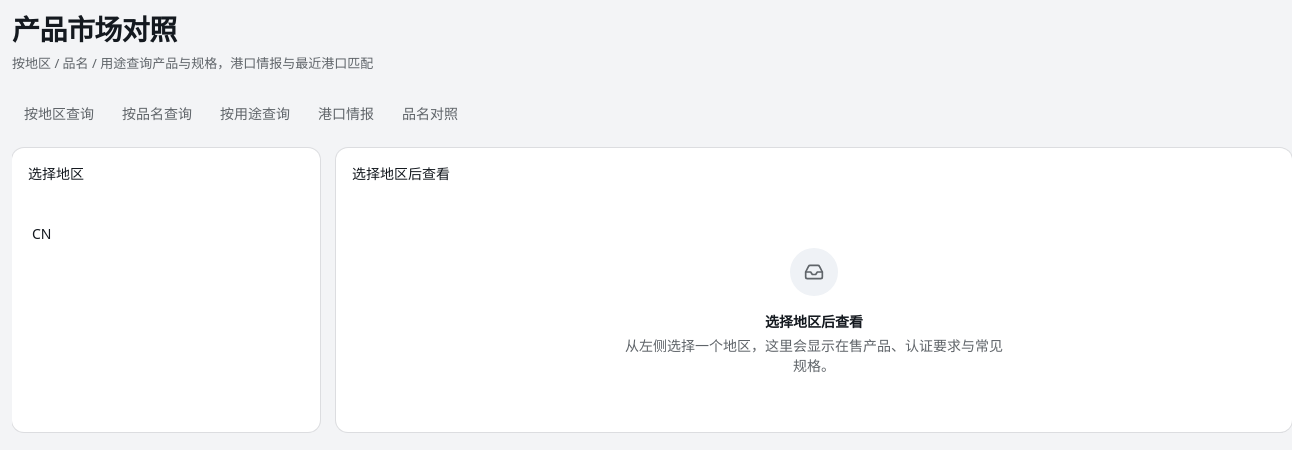
市场对照 · 地区查询 › 选中地区后产品读取失败 ⇒ ErrorState（不是「该地区暂无产品数据」）
Click the button "CN" at (42, 234), box left=20, top=216, right=312, bottom=252
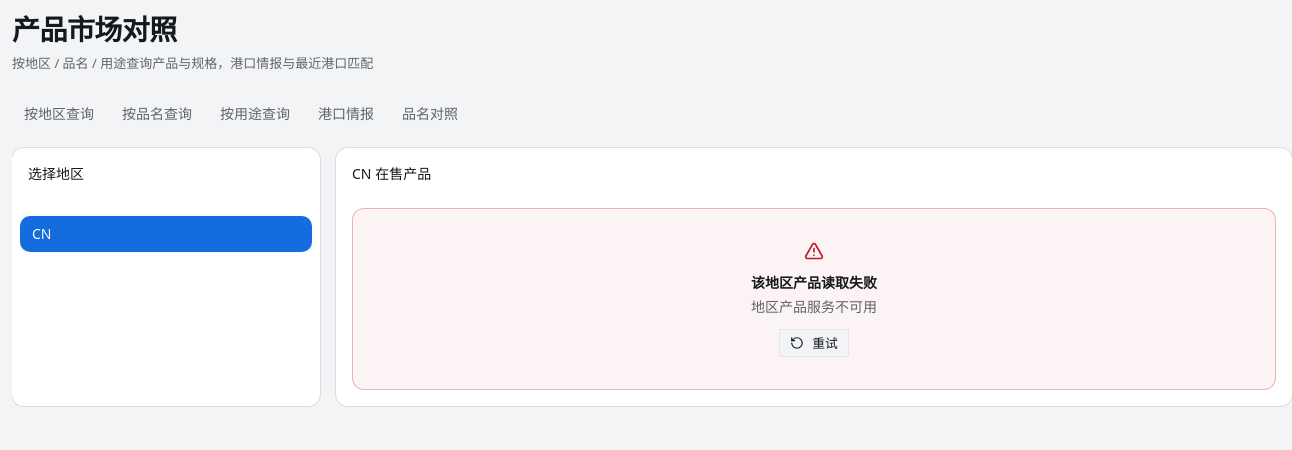
Check: the message "该地区产品读取失败 地区产品服务不可用 重试" is shown, box left=352, top=208, right=1276, bottom=390
